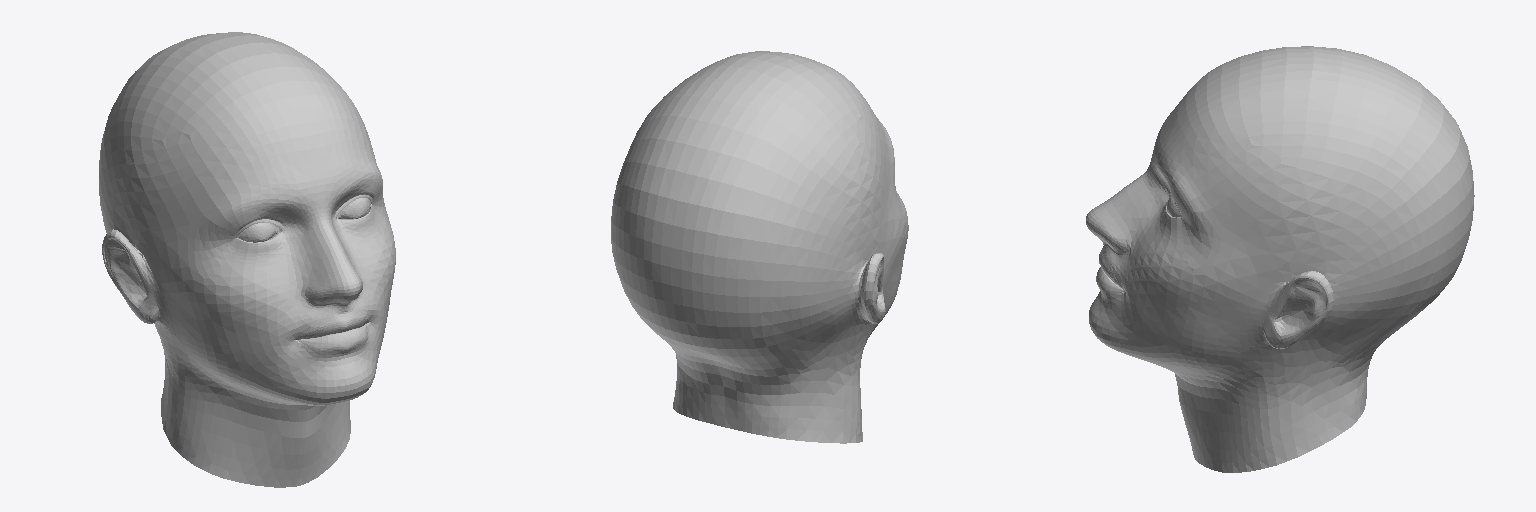
The picture shows the model from 3 angles: view 1: azimuth 30°, elevation 25°; view 2: azimuth 150°, elevation 25°; view 3: azimuth 270°, elevation 25°; orthographic projection.
Parts seen in each view (by area): view 1: FaceGen; view 2: FaceGen; view 3: FaceGen.
Part boxes in pixels (bbox=[...]): FaceGen: bbox=[99, 32, 395, 487]; FaceGen: bbox=[611, 51, 908, 443]; FaceGen: bbox=[1086, 46, 1474, 472].
Size of the model in its own units: 193 by 282 by 250.